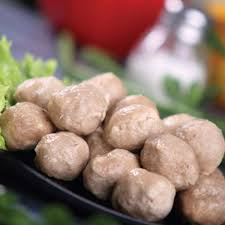bakso: (6, 56, 225, 222)
